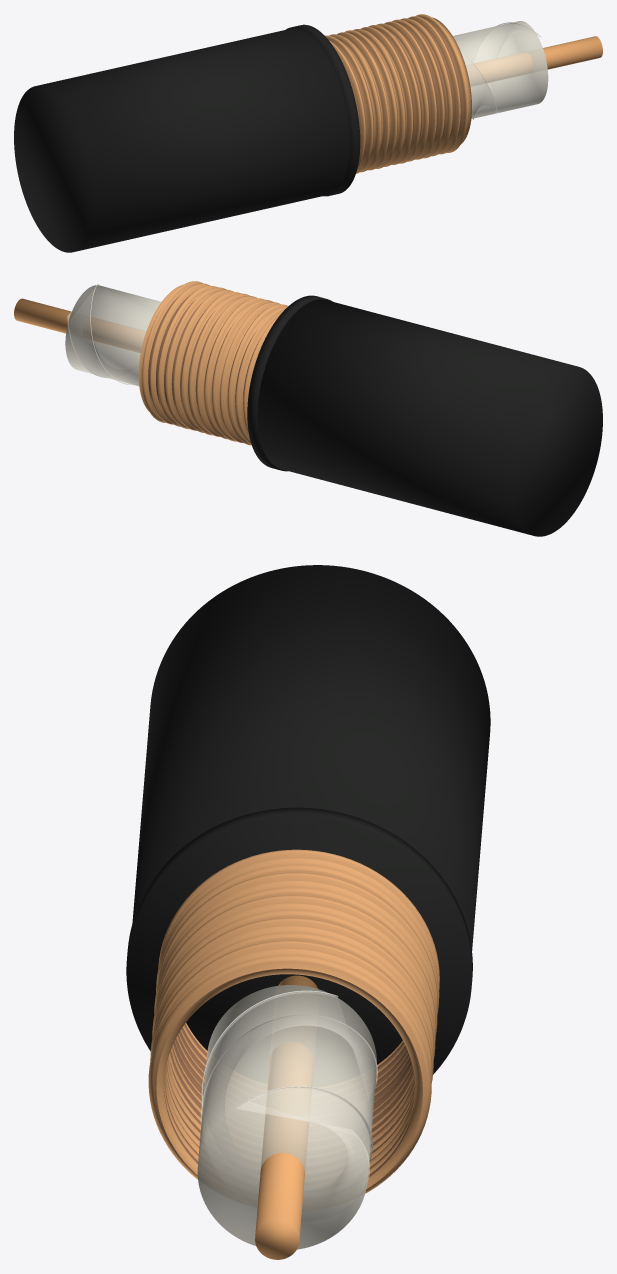
Rendered from rf-ava5-50.glb.
The picture shows the model from 3 angles, top to bottom: view 1: azimuth 30°, elevation 25°; view 2: azimuth 150°, elevation 25°; view 3: azimuth 270°, elevation 25°; orthographic projection. The views are drawn at different scales.
Visible parts, largest first — view 1: black PE jacket body, corrugated copper shield, foam PE dielectric, solid center conductor continuous, dark groove shadow pass, jacket cut lip, surface PTFE tape wrap; view 2: black PE jacket body, corrugated copper shield, foam PE dielectric, solid center conductor continuous, jacket cut lip, dark groove shadow pass, surface PTFE tape wrap; view 3: black PE jacket body, corrugated copper shield, foam PE dielectric, jacket cut lip, surface PTFE tape wrap, solid center conductor continuous, dark groove shadow pass.
Boxes of the visible parts, x1,y1,x2,y2 form: black PE jacket body: (14, 28, 349, 252); corrugated copper shield: (325, 14, 471, 173); foam PE dielectric: (453, 21, 548, 118); solid center conductor continuous: (466, 36, 602, 85); dark groove shadow pass: (346, 26, 462, 145); jacket cut lip: (285, 24, 360, 196); surface PTFE tape wrap: (460, 23, 539, 114); black PE jacket body: (257, 299, 602, 536); corrugated copper shield: (138, 281, 288, 445); foam PE dielectric: (65, 285, 161, 386); solid center conductor continuous: (14, 298, 145, 352); jacket cut lip: (247, 295, 332, 471); dark groove shadow pass: (148, 295, 259, 407); surface PTFE tape wrap: (67, 284, 138, 384); black PE jacket body: (132, 565, 490, 950); corrugated copper shield: (148, 849, 439, 1193); foam PE dielectric: (197, 985, 376, 1249); jacket cut lip: (126, 807, 472, 1074); surface PTFE tape wrap: (201, 992, 377, 1215); solid center conductor continuous: (255, 975, 317, 1259); dark groove shadow pass: (164, 1024, 413, 1177).
Bounding box in the file's own units: 6.68 × 1.87 × 1.97.
